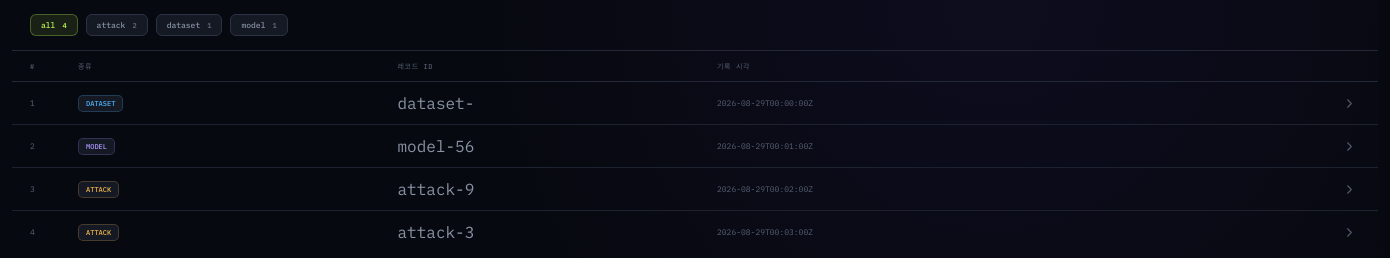
Test: JournalTable › filters the listing down to one kind
This screenshot has width=1390, height=258.
What coordinates should you click on to do the following:
click the button "attack 2"
I would click on:
 (117, 25)
Its box is [86,14,148,36].
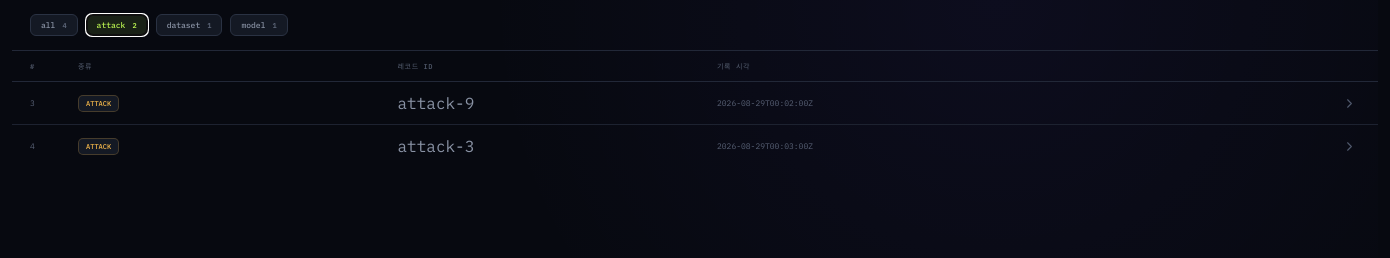
Expected: the text "attack-9" is shown, [398,93,474,113]
Result: the button "dataset-" is gone
